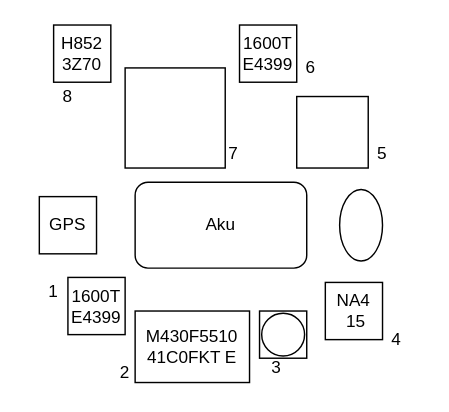
This 449x412 diagram has some shape labels left out. The shapes that lost their labels are listed below. From the top down, each one's centre as x and y in pixels, then its label:
At pixel 174 117: "adesto 45DB081D MU1342 KOREA-A 2P8554".
At pixel 331 131: "NRF D 24LE1D 1346AB".
At pixel 360 224: "USB".
